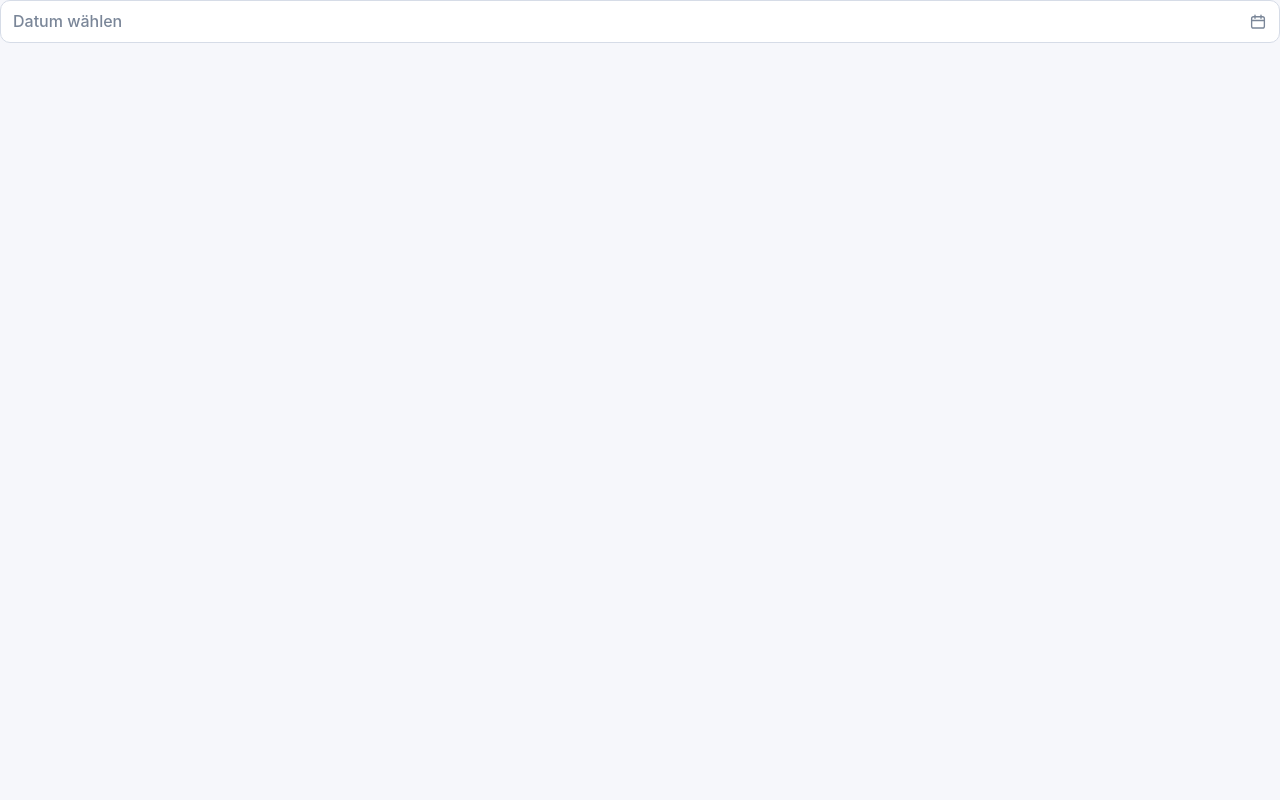
DatePicker › opens on the current month and highlights today and the month
Click the button with aria-label "Deadline" at (68, 21), box [0,0,1279,43]
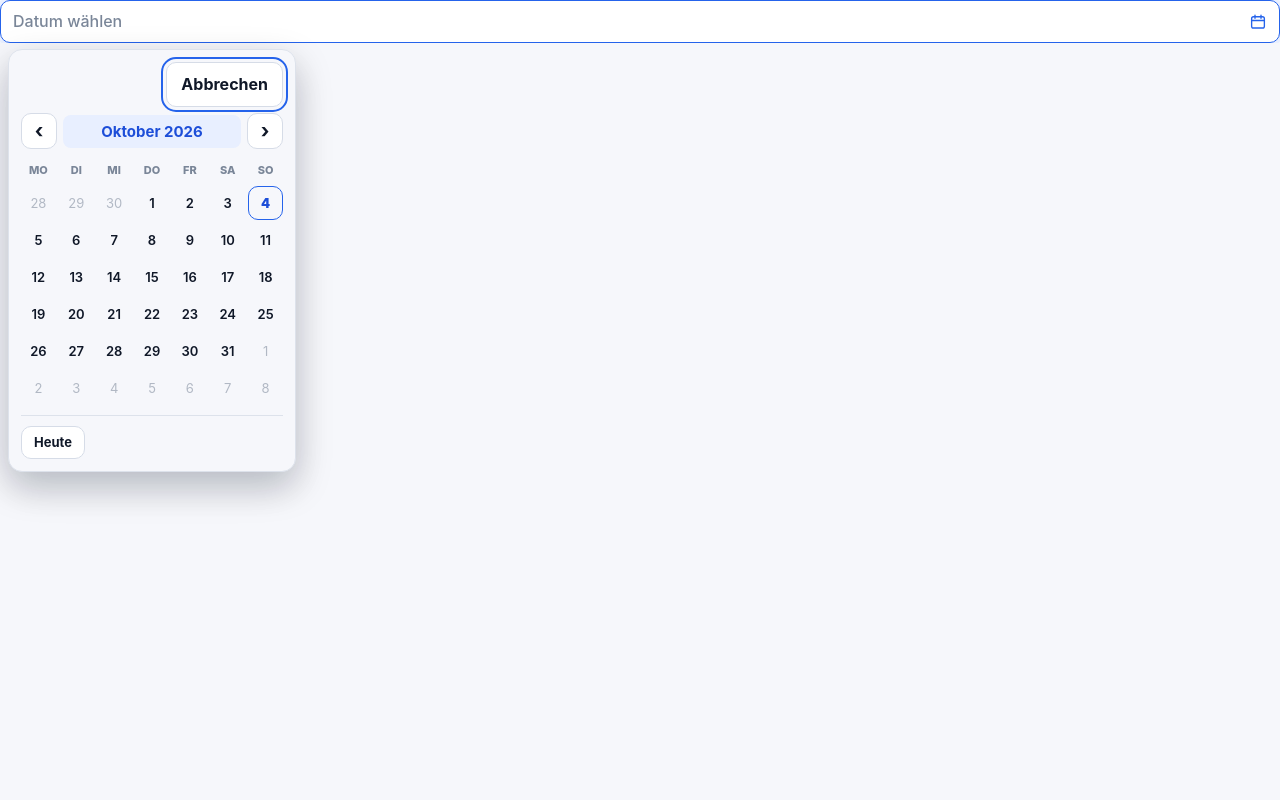
Now the text "Mo" is shown, box [29,163,48,177]
